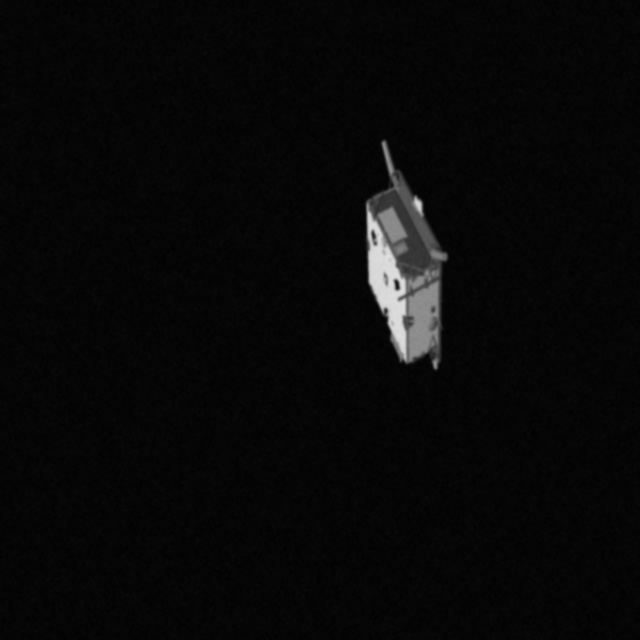medium_debris: (354, 140, 462, 380)
